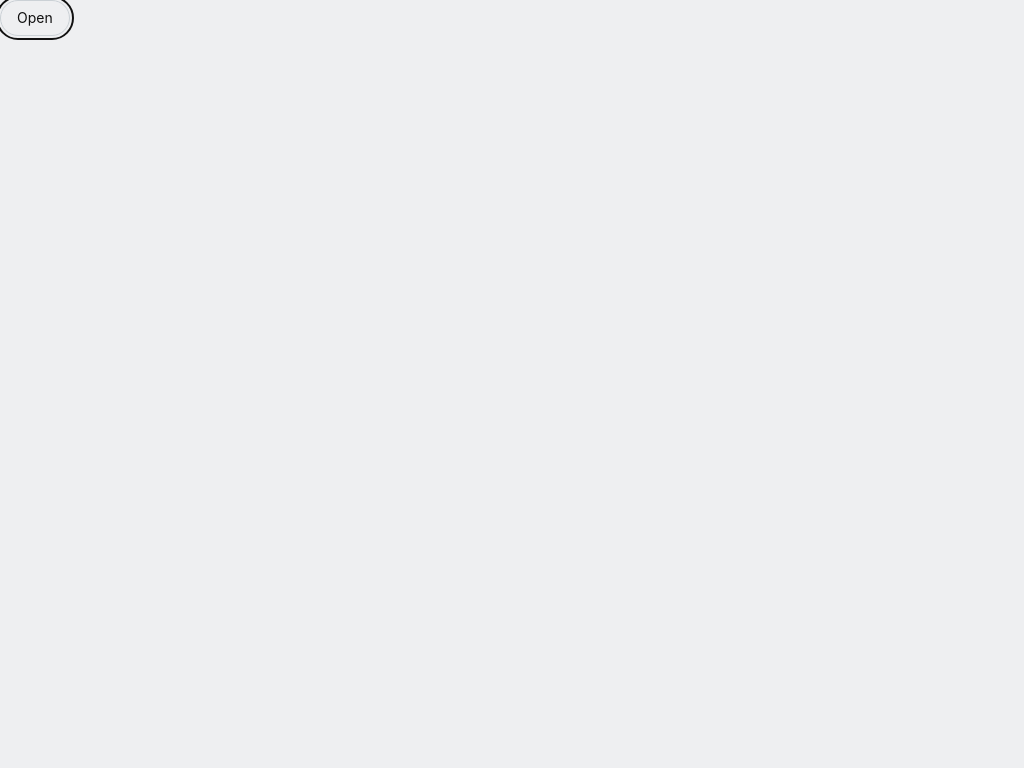
Scenario: Dialog › opens and closes with its buttons
Click the button "Open". click: (35, 18)
box: left=0, top=0, right=70, bottom=36
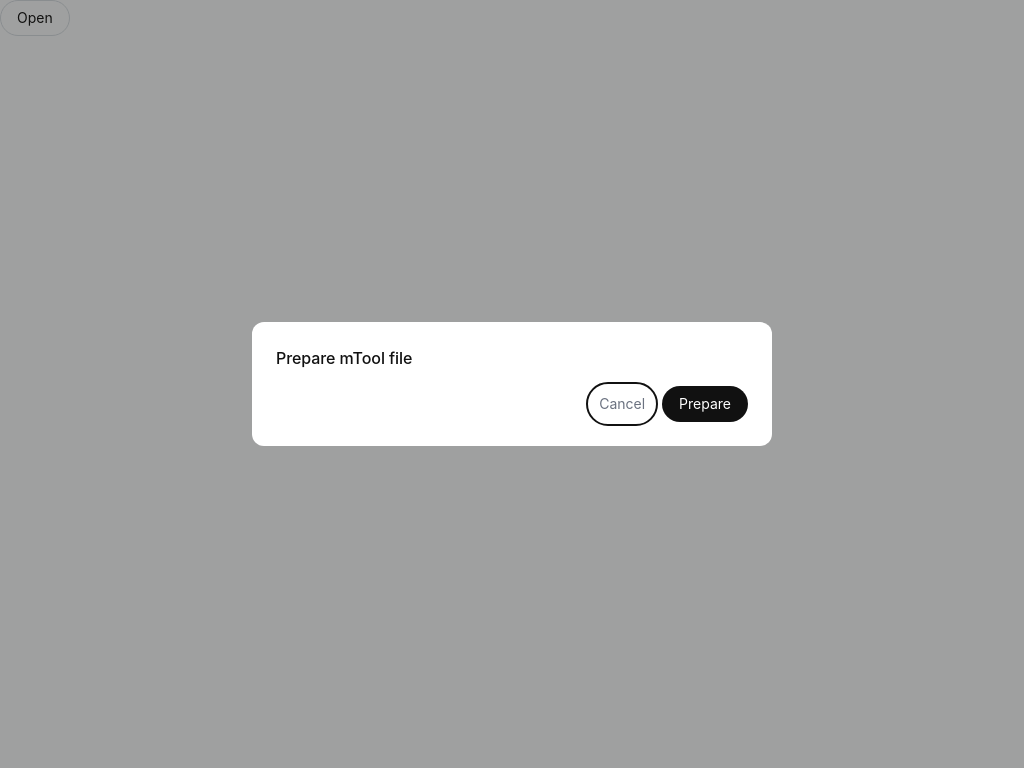
Now the dialog "Prepare mTool file" is shown, box left=252, top=322, right=772, bottom=446
Click the button "Cancel". click: (622, 404)
box: left=590, top=386, right=654, bottom=422
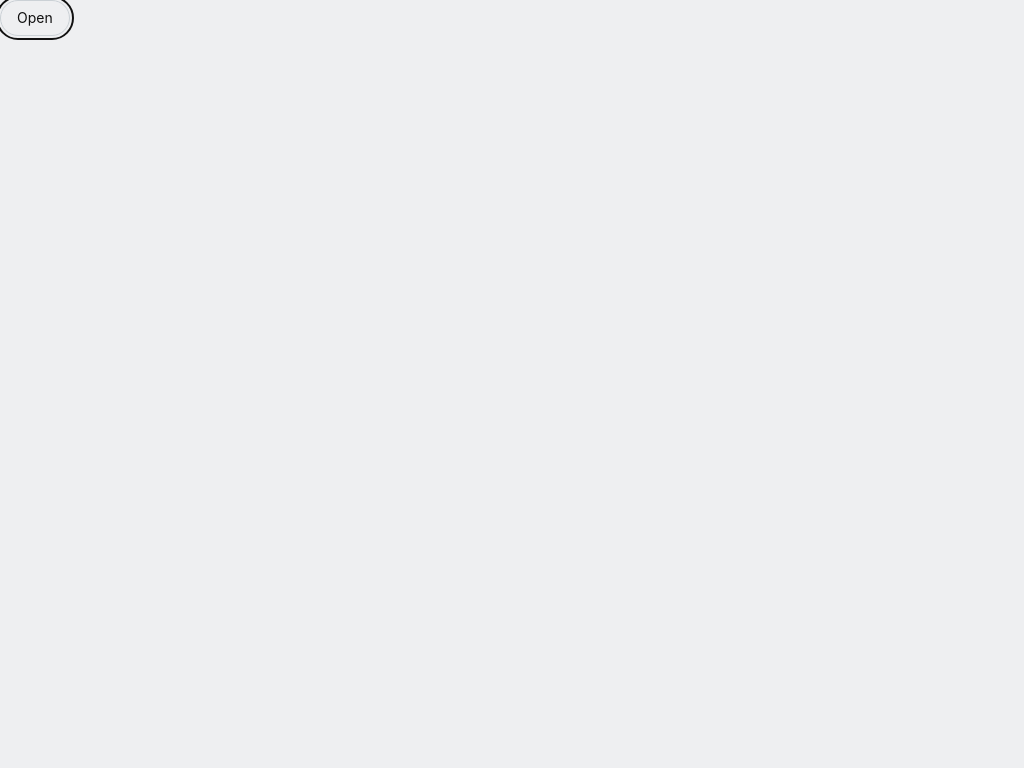
Now the dialog is gone
